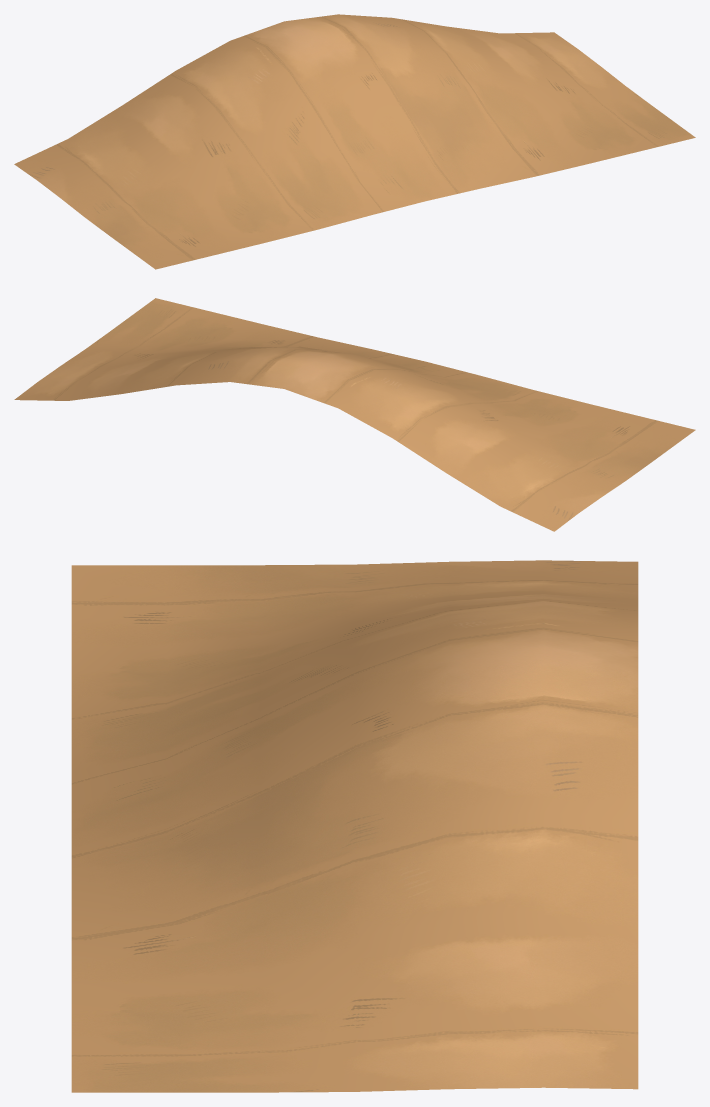
The model's file is Hill_01.fbx.
The picture shows the model from 3 angles, top to bottom: view 1: azimuth 30°, elevation 25°; view 2: azimuth 150°, elevation 25°; view 3: azimuth 270°, elevation 25°; orthographic projection. The views are drawn at different scales.
Parts seen in each view (by area): view 1: pPlane105; view 2: pPlane105; view 3: pPlane105.
Part boxes in pixels (x1,y1,x2,y2): pPlane105: (14,14,695,269); pPlane105: (14,298,695,531); pPlane105: (71,560,638,1092).
Bounding box in the file's own units: 354 × 53.3 × 161.
Materials: 1 (1 with a texture image).
